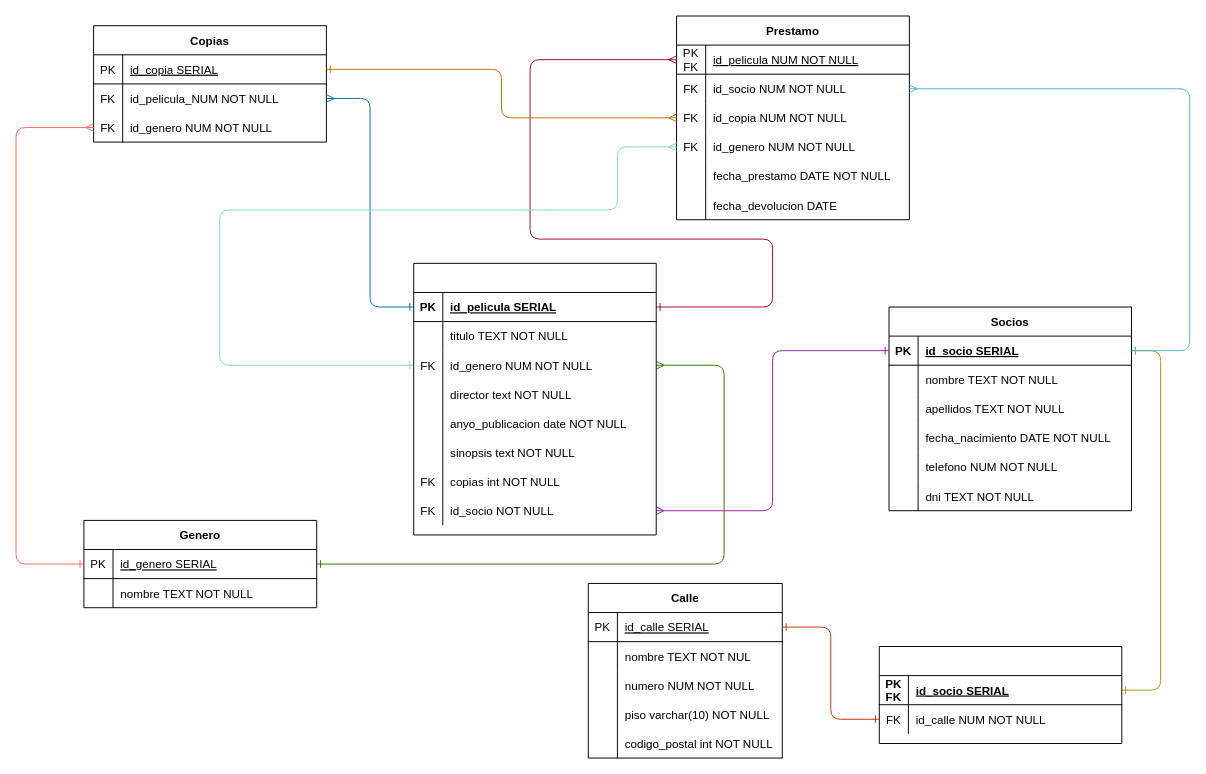
This 1206x774 diagram has some shape labels left out. The box of each missing label's shape, as (x1, y1, x2, y2) in pixels:
Dirección: (878, 646, 1122, 744)
Películas: (413, 262, 656, 535)
